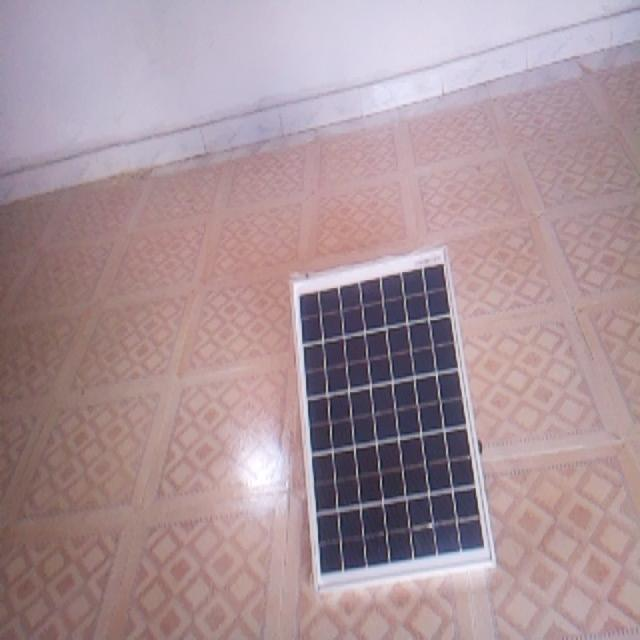Normal Solar Panel: (293, 249, 497, 592)
